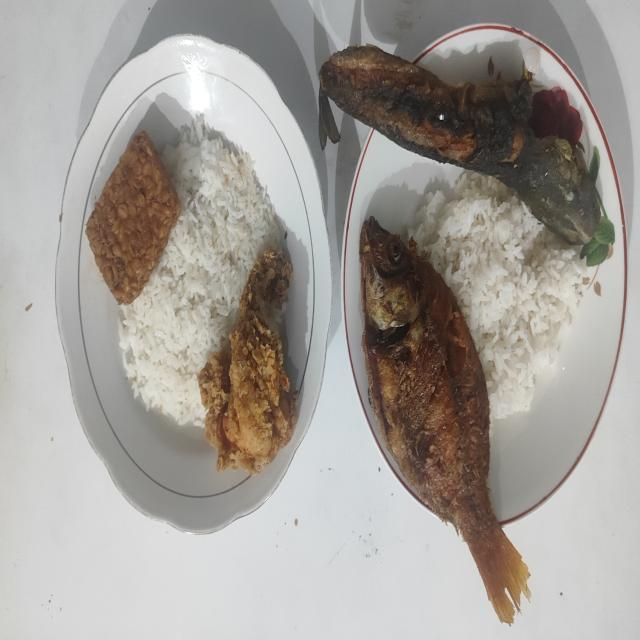ikan_mujair: (360, 216, 530, 624)
nasi_putih: (119, 117, 282, 426), (414, 172, 584, 420)
tempe_goreng: (86, 130, 182, 304)
